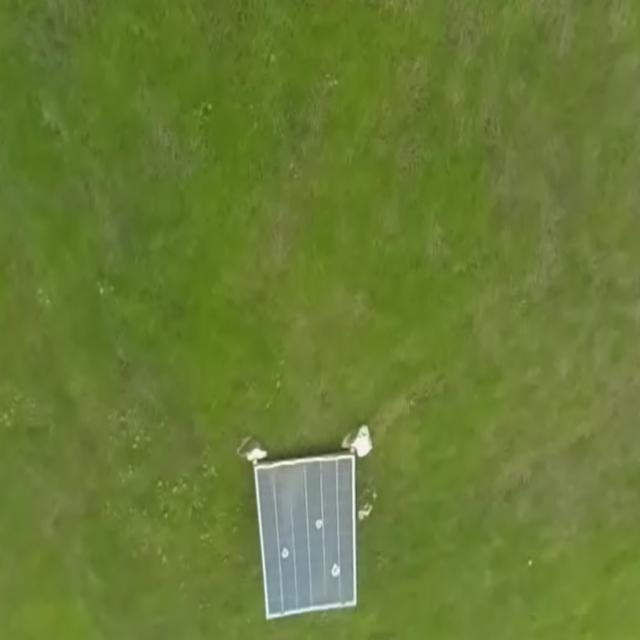Bird-drop: (329, 558, 343, 581), (312, 513, 325, 534), (280, 543, 292, 562)
